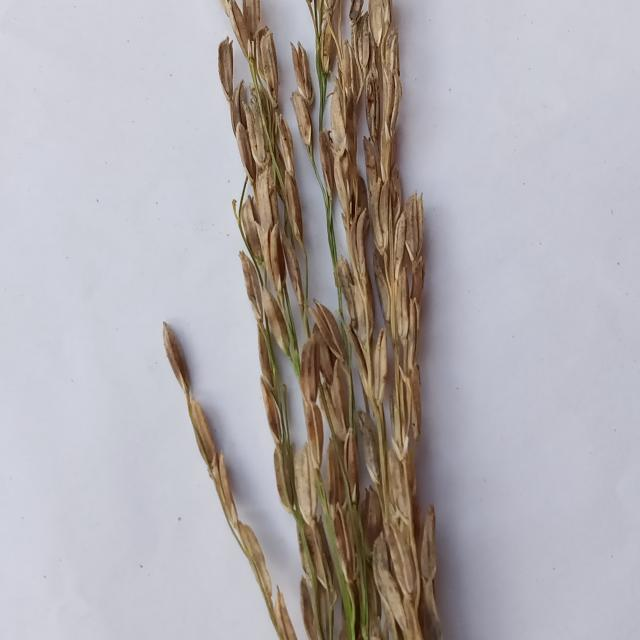Neck_Blast: (291, 1, 446, 636), (219, 1, 372, 590), (152, 323, 283, 634)
